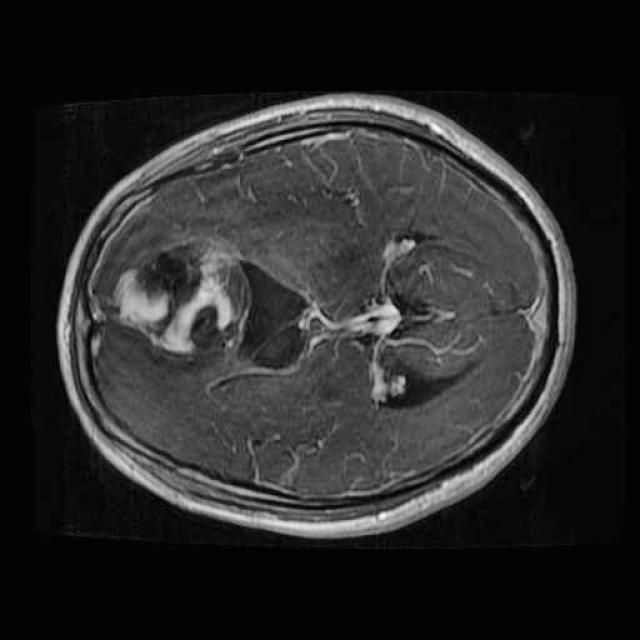Tumor: (101, 220, 260, 376)
